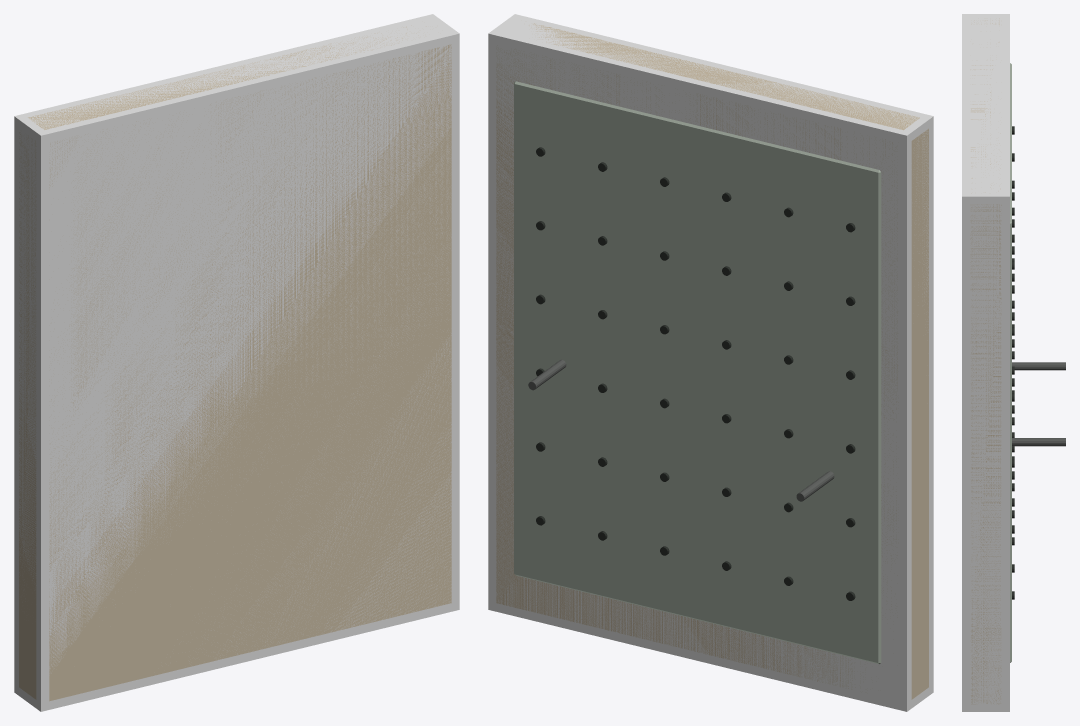
Rendered from basic.glb.
The picture shows the model from 3 angles, left to right: view 1: azimuth 30°, elevation 25°; view 2: azimuth 150°, elevation 25°; view 3: azimuth 270°, elevation 25°; orthographic projection. The views are drawn at different scales.
Visible parts, largest first — view 1: COL_PEGBOARD_WALLS_BASIC, Pegboard_Frame; view 2: Pegboard_Field, COL_PEGBOARD_WALLS_BASIC, Pegboard_Frame; view 3: COL_PEGBOARD_WALLS_BASIC, Pegboard_Frame, Pegboard_Field, PegHook_2, PegHook_1.
Part boxes in pixels (x1,y1,x2,y2): COL_PEGBOARD_WALLS_BASIC: [14, 14, 459, 711]; Pegboard_Frame: [19, 25, 451, 701]; Pegboard_Field: [514, 81, 881, 664]; COL_PEGBOARD_WALLS_BASIC: [488, 14, 933, 711]; Pegboard_Frame: [496, 23, 928, 699]; COL_PEGBOARD_WALLS_BASIC: [962, 14, 1009, 711]; Pegboard_Frame: [970, 18, 1001, 704]; Pegboard_Field: [1010, 63, 1011, 662]; PegHook_2: [1012, 438, 1065, 446]; PegHook_1: [1012, 362, 1065, 370].
Bounding box in the file's own units: 1.27 × 1.67 × 0.3055.
